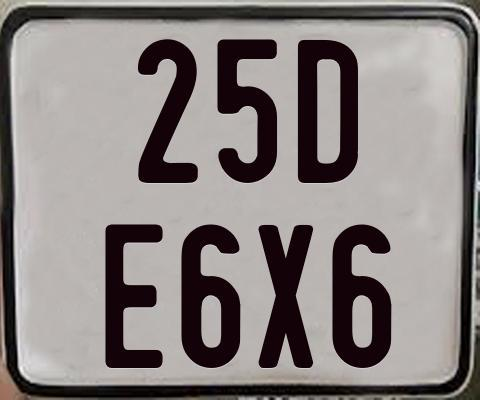2: (138, 36, 203, 184)
5: (216, 37, 281, 186)
6: (330, 221, 395, 369), (179, 223, 239, 373)
D: (296, 40, 356, 188)
E: (104, 224, 166, 368)
X: (255, 225, 312, 370)
